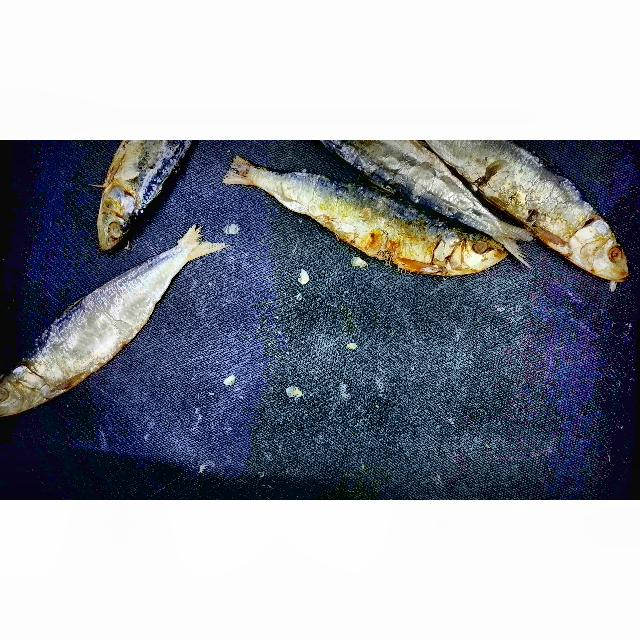Grade_C_Body: (275, 173, 432, 285), (23, 259, 167, 377), (451, 140, 608, 239), (324, 140, 472, 221)
Grade_C_Head: (559, 214, 638, 288), (433, 219, 506, 287)
Grade_C_Tail: (161, 209, 232, 279), (482, 209, 534, 269), (220, 150, 278, 201)
